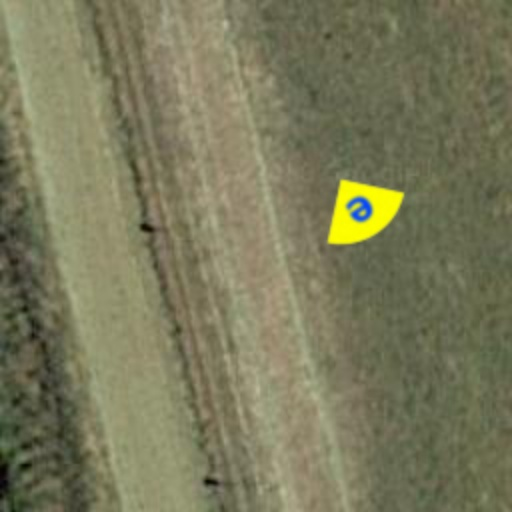quarter_circle: (302, 152, 422, 272)
